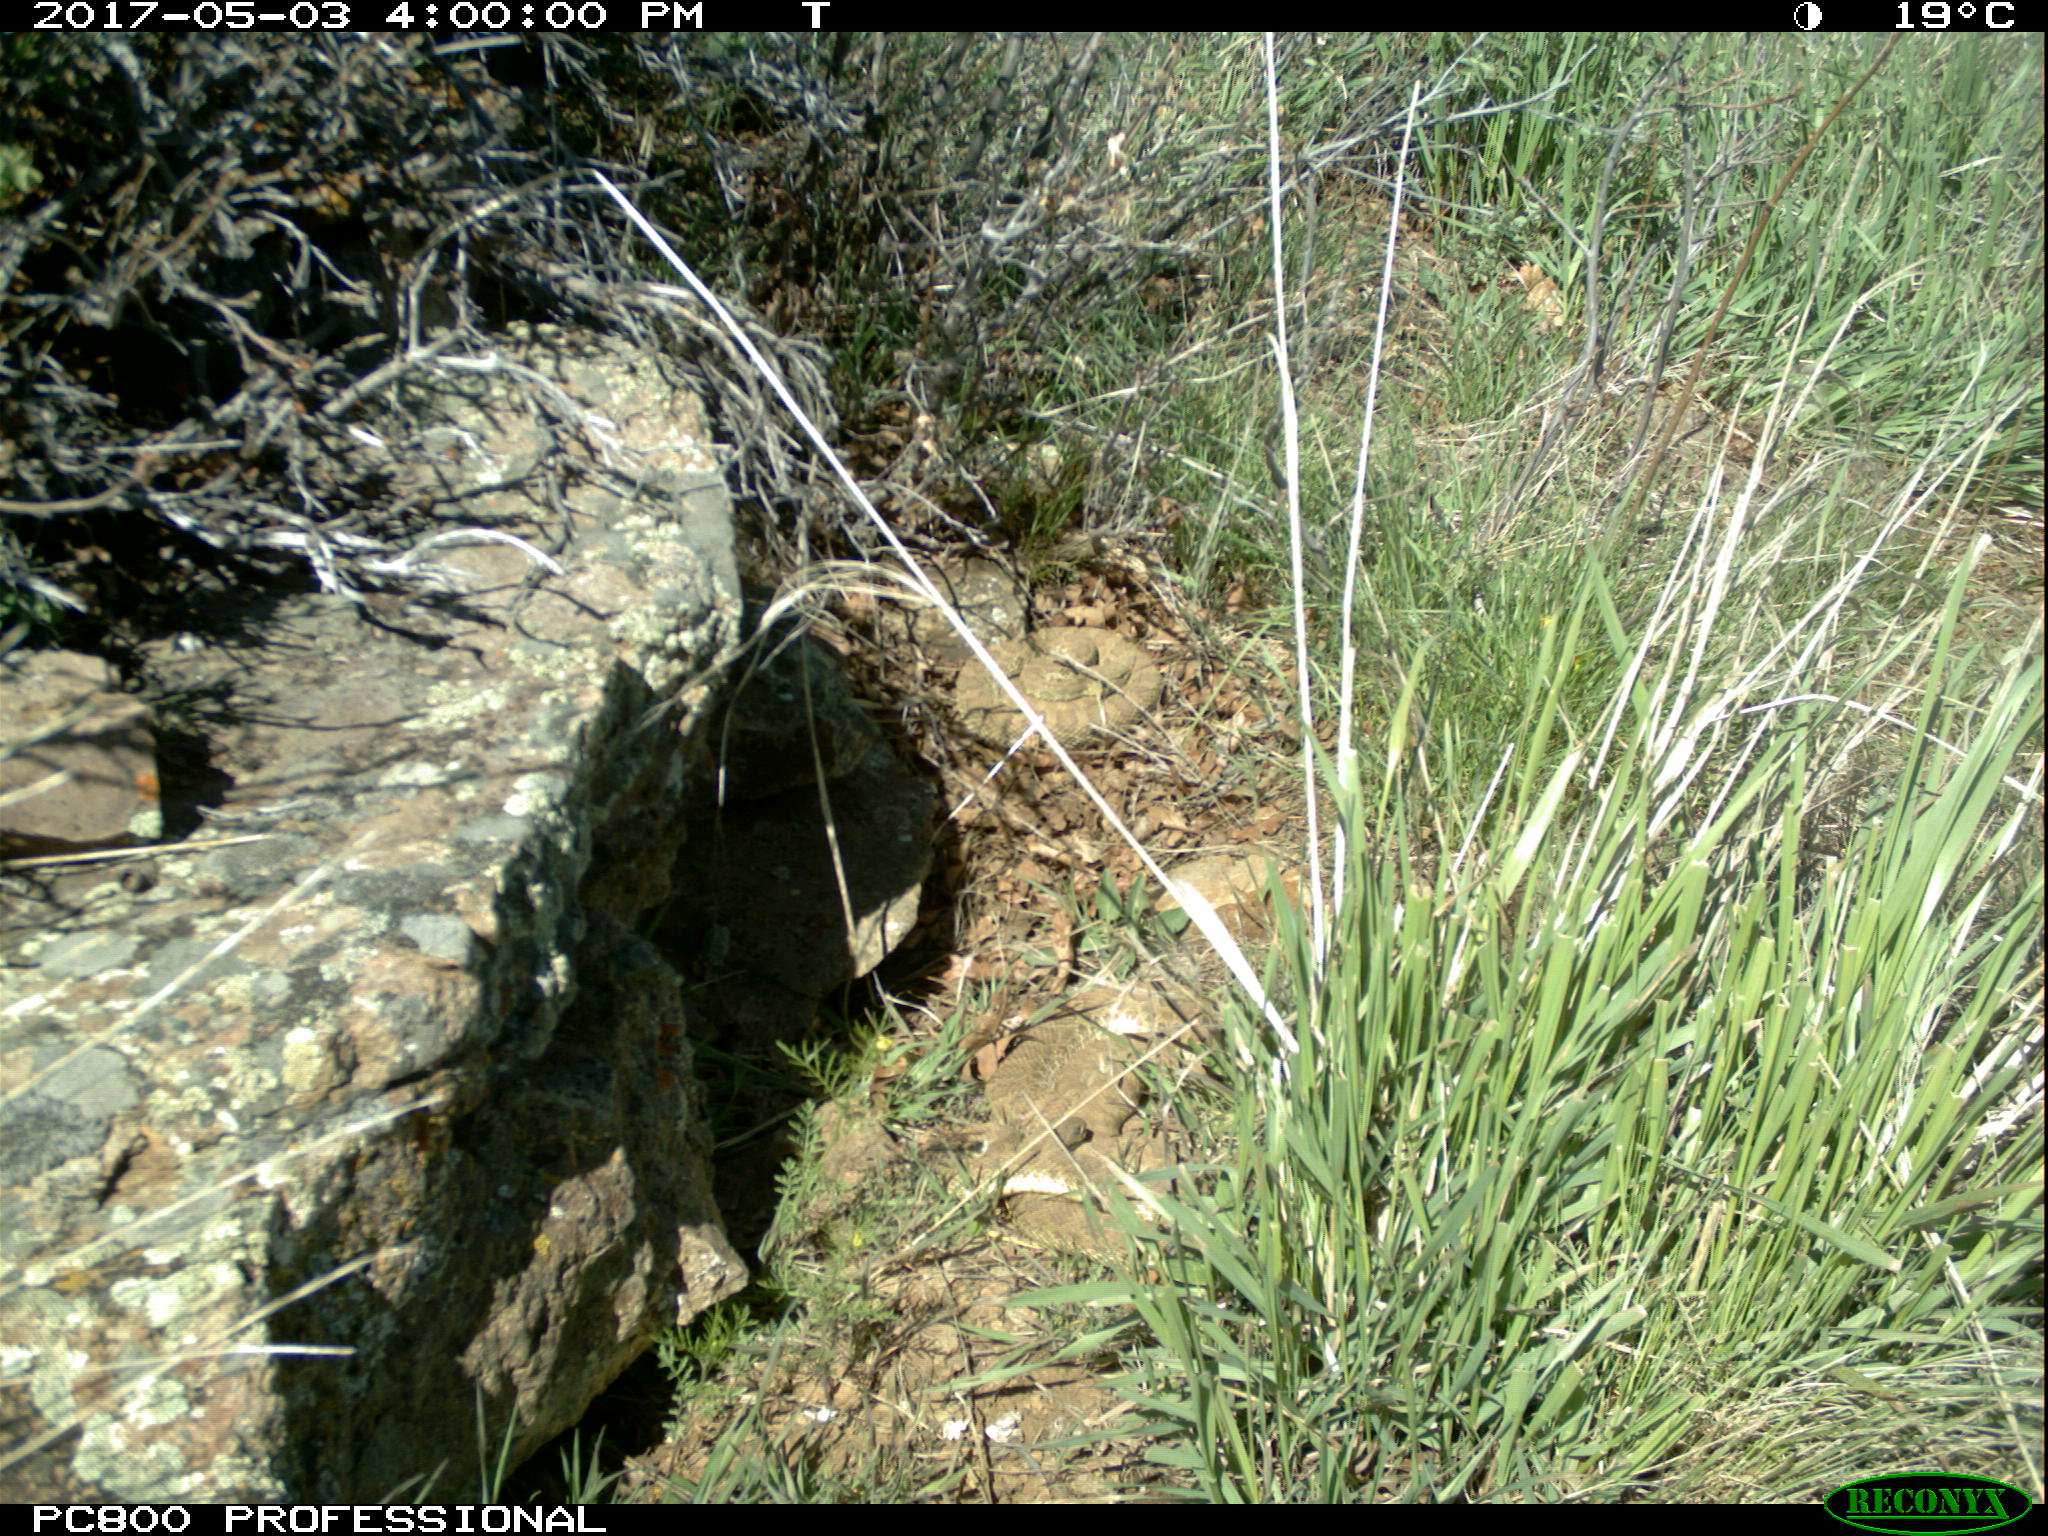snake: (977, 1002, 1176, 1255), (955, 624, 1174, 736)
